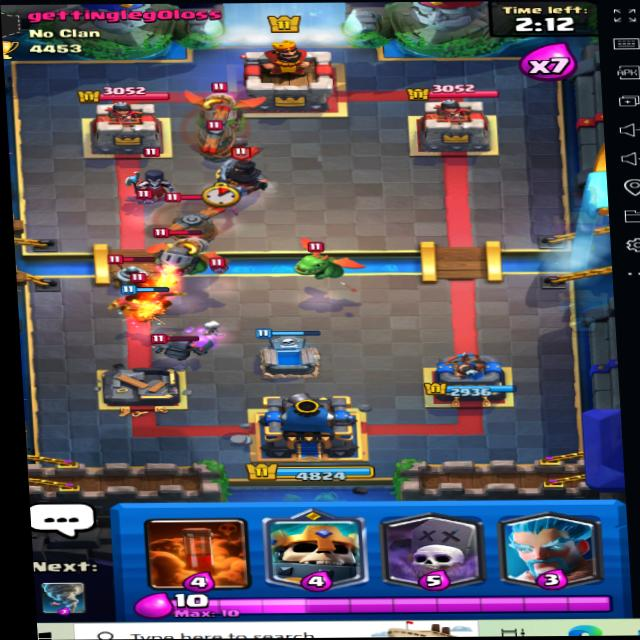Babydragon: (282, 234, 364, 279)
Bat: (121, 189, 166, 214), (202, 254, 230, 276)
Darkprince: (206, 152, 284, 210)
Flyingmachine: (151, 195, 229, 256), (189, 115, 262, 166)
Infernodragon: (141, 228, 240, 282), (186, 84, 262, 135)
Minipekka: (152, 327, 212, 361)
Nightwitch: (123, 151, 175, 208)
Zappies: (108, 256, 162, 287)
